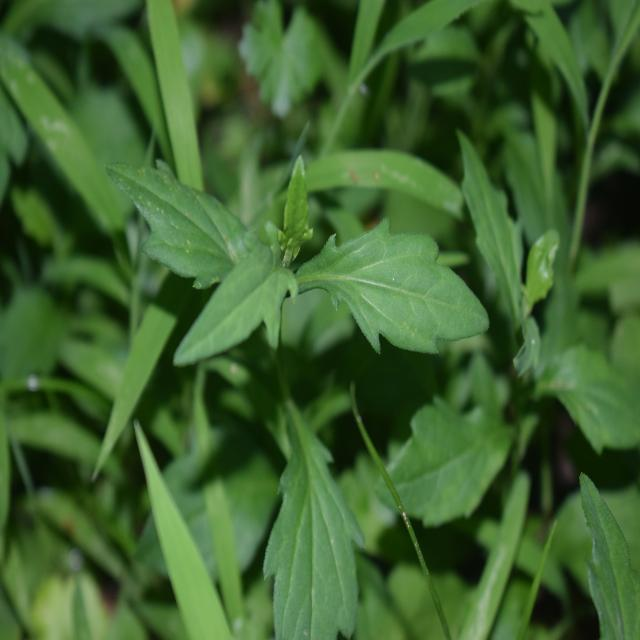Indian aster: (120, 144, 467, 624)
